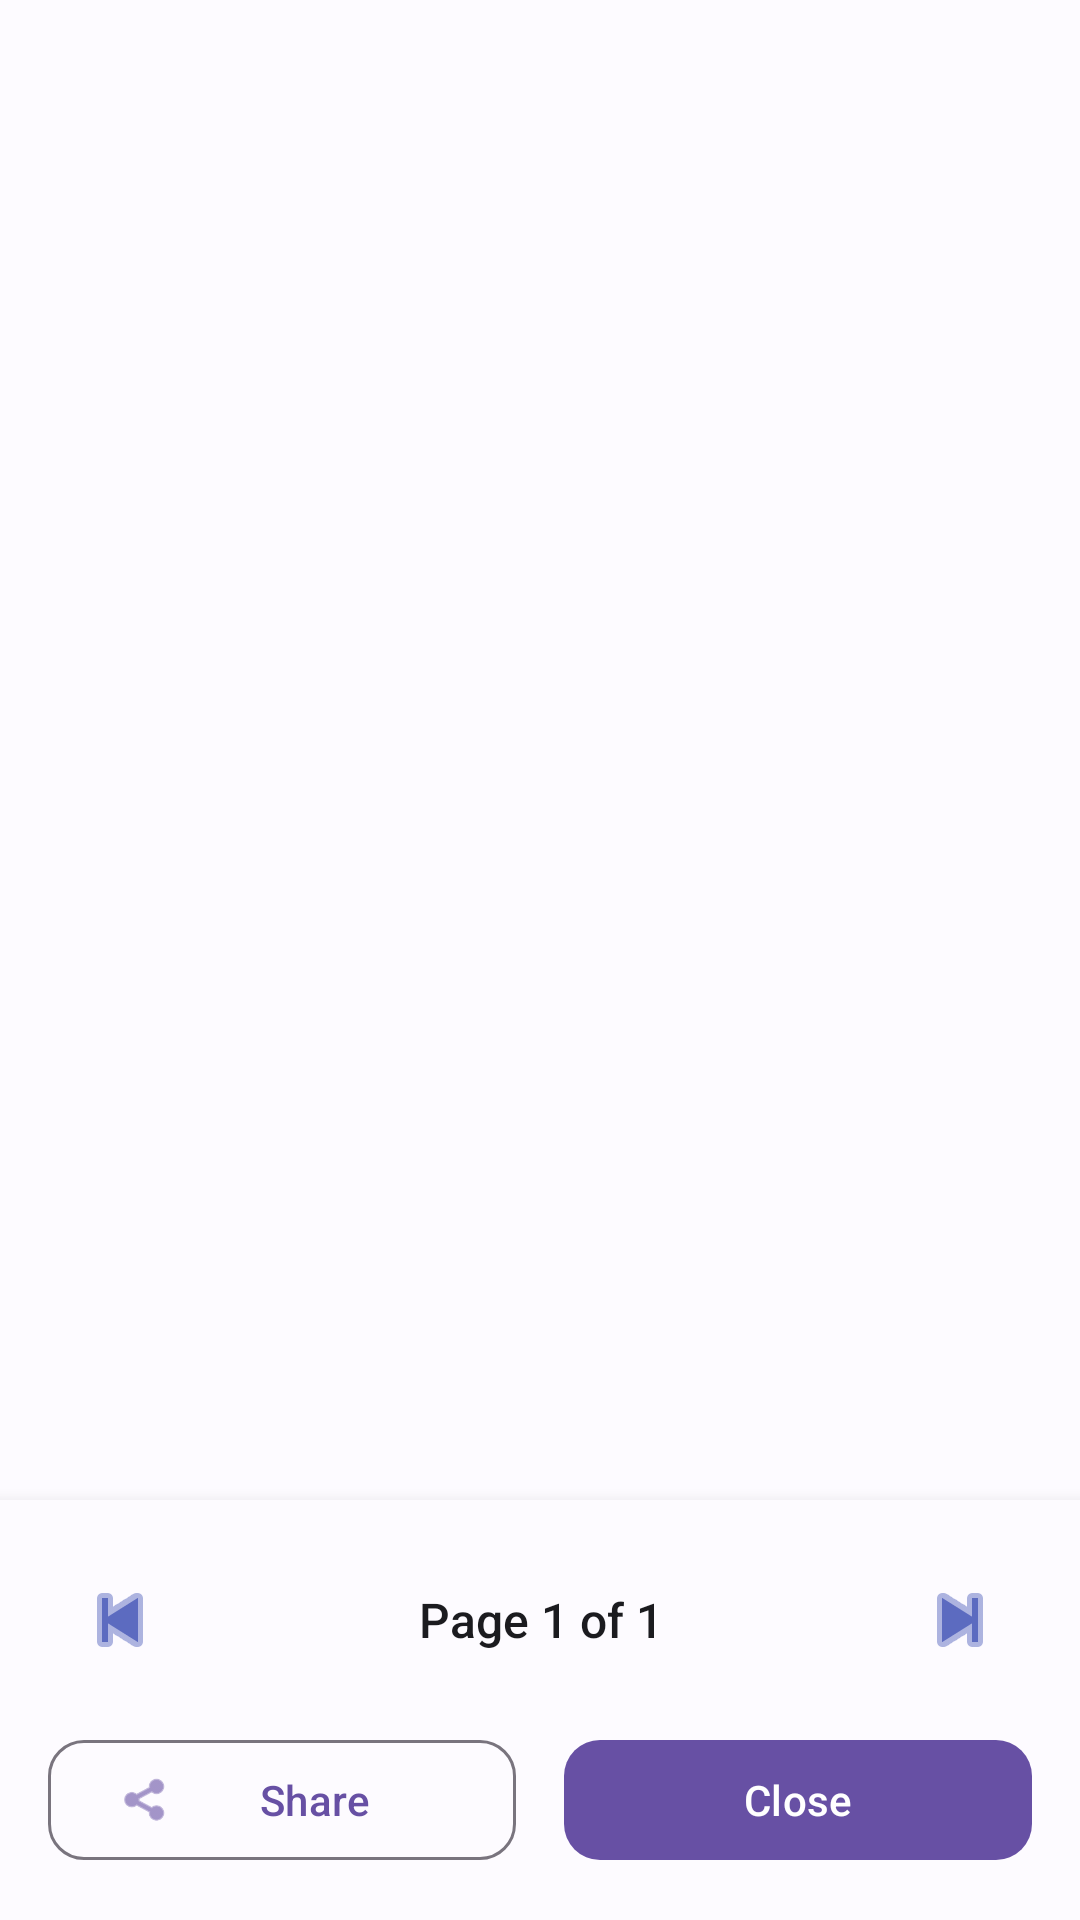

Icons on this 1080 × 1920 Android screen, each with its box as (x1, y1, x2, y2):
Next page: (937, 1593, 983, 1647)
Previous page: (97, 1593, 143, 1647)
